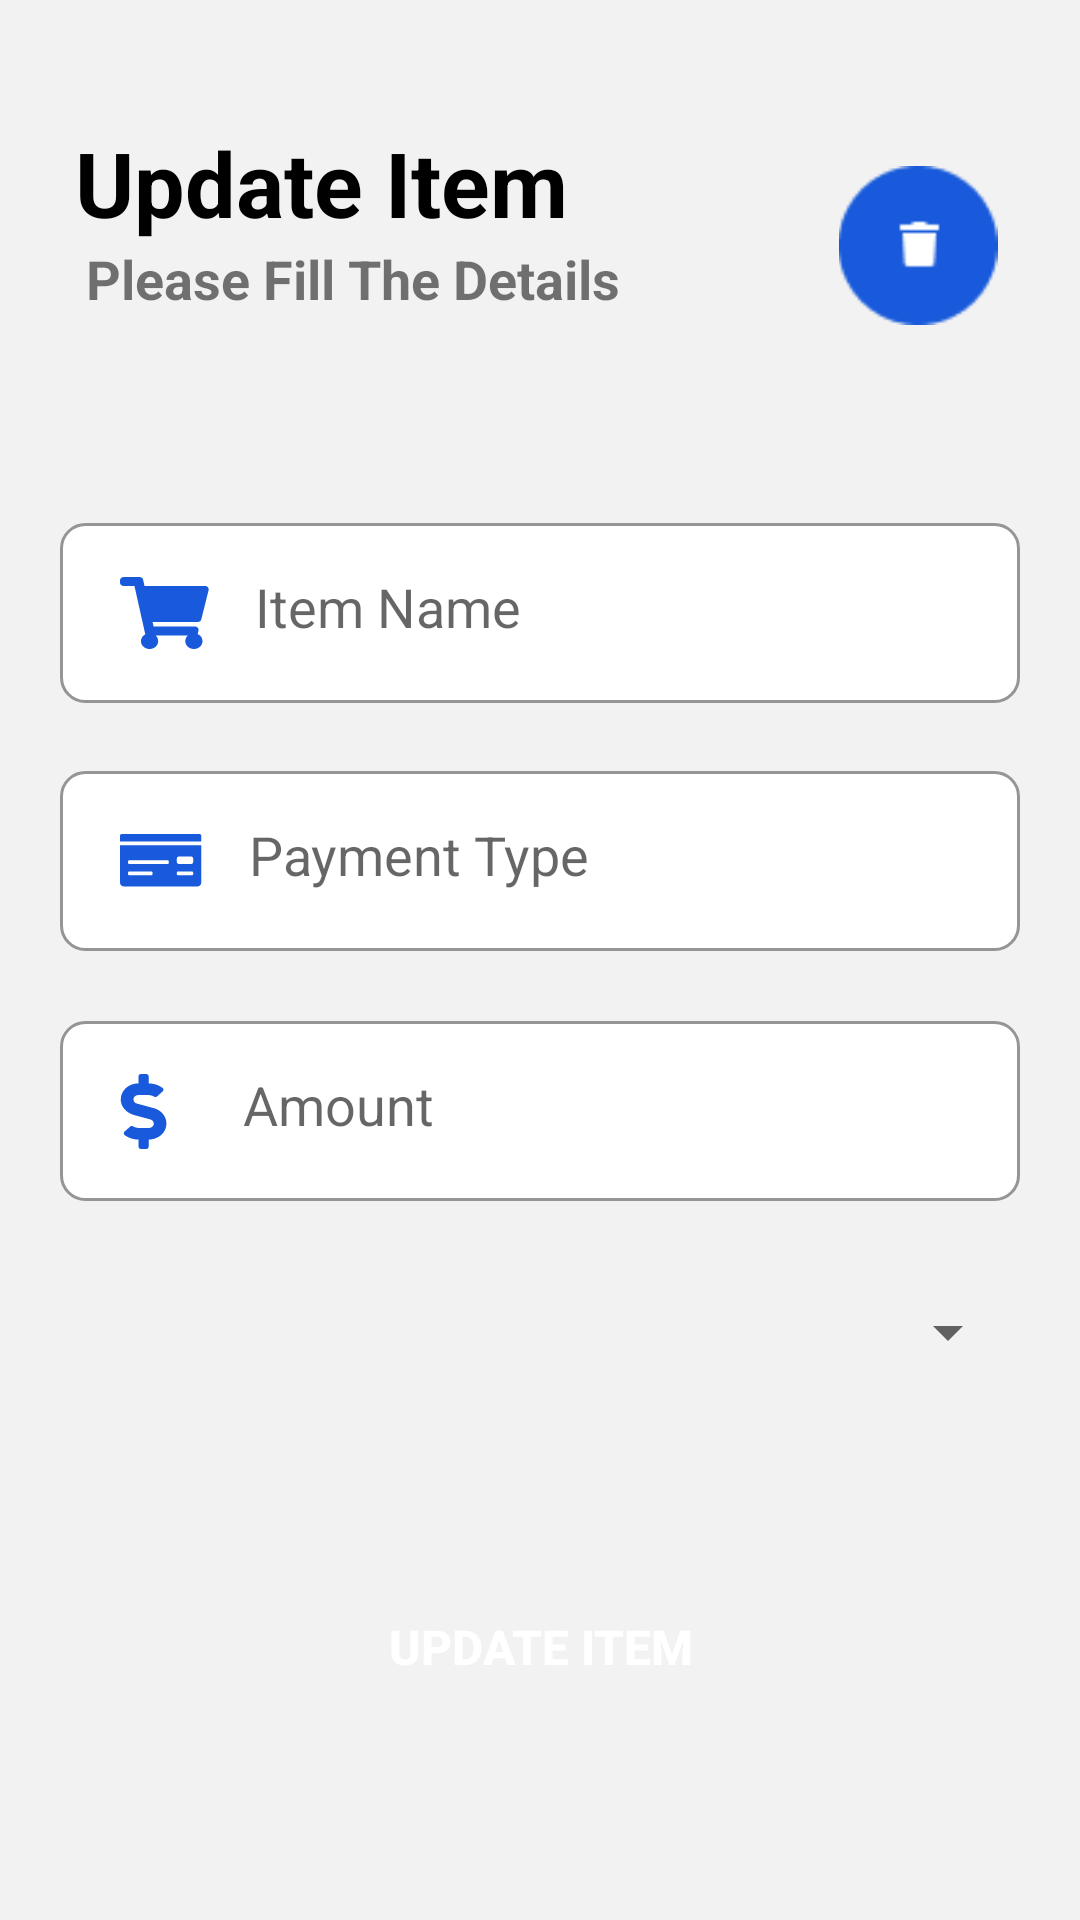

Screen size 1080 × 1920. Icon name, then its box in pixels as (x1, y1, x2, y2):
dustbin: (839, 166, 998, 325)
